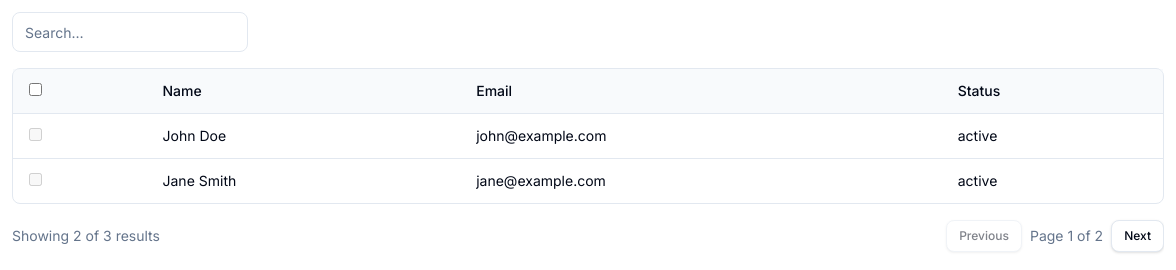
Test case: DataTable Integration › handles pagination
Check: the text "Page 1 of 2" is shown, box [1030, 226, 1103, 246]
Click the button with aria-label "Next page" at {"x": 1138, "y": 236}, box [1111, 220, 1164, 252]
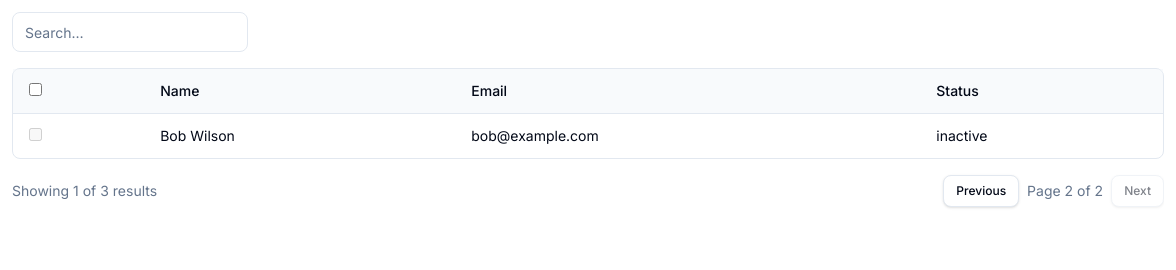
Check: the text "Page 2 of 2" is shown, box [1027, 181, 1103, 201]
